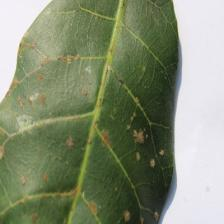red rust: (0, 0, 180, 223)
